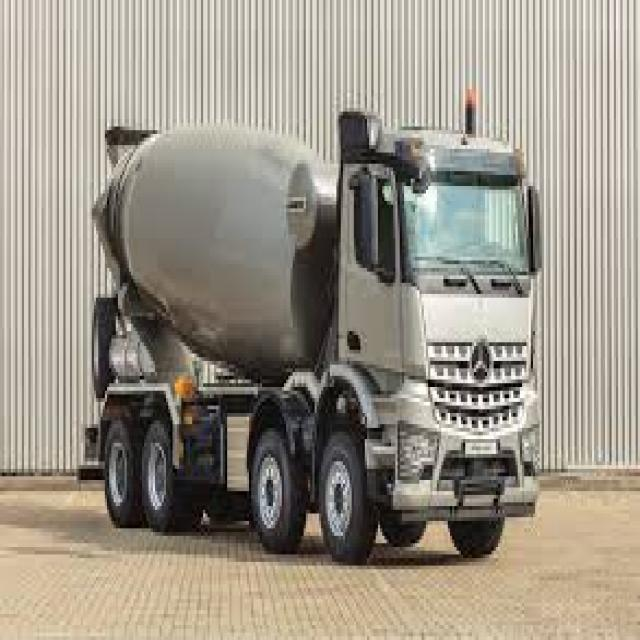Mixer Truck: (75, 97, 548, 564)
